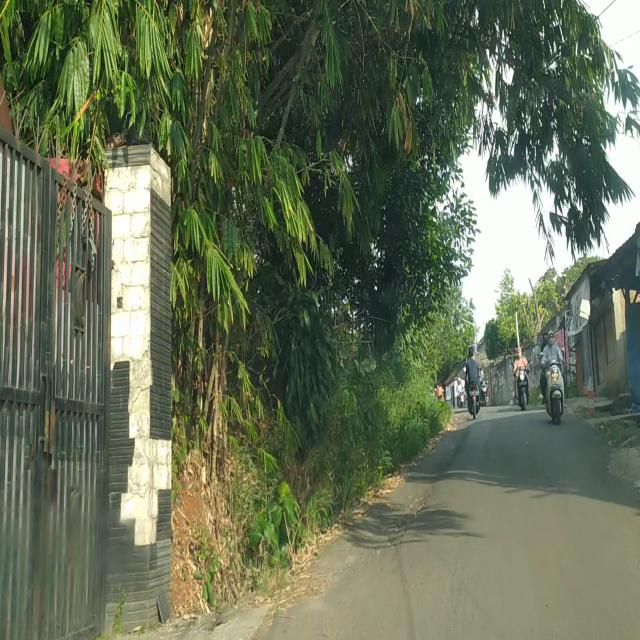Drain Hole: (374, 493, 428, 563)
